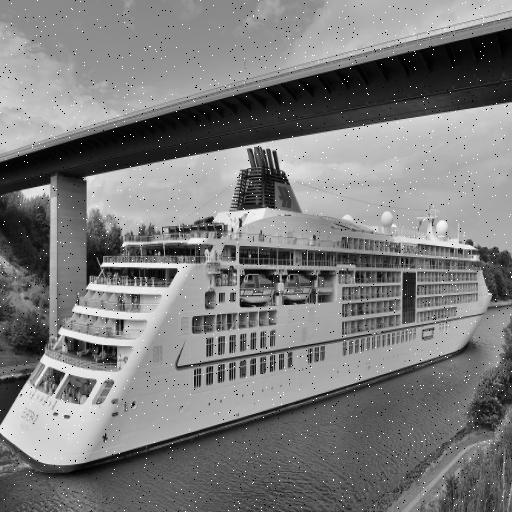cruises: (1, 145, 496, 478)
